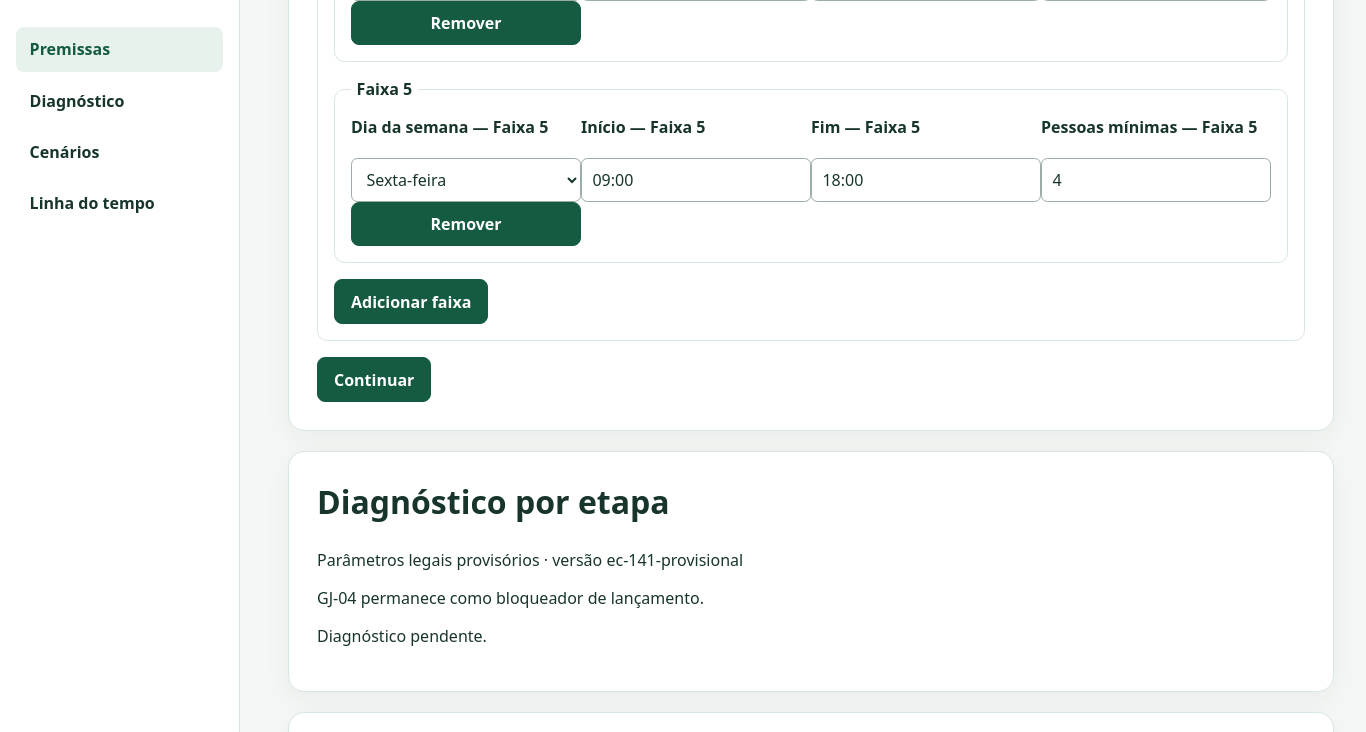
Test: diagnostic dashboard › clears diagnostic and scenario results when a diagnostic premise changes
(page scrolled)
Click the button "Continuar".
click(374, 380)  # box [317,357,431,402]
(page scrolled)
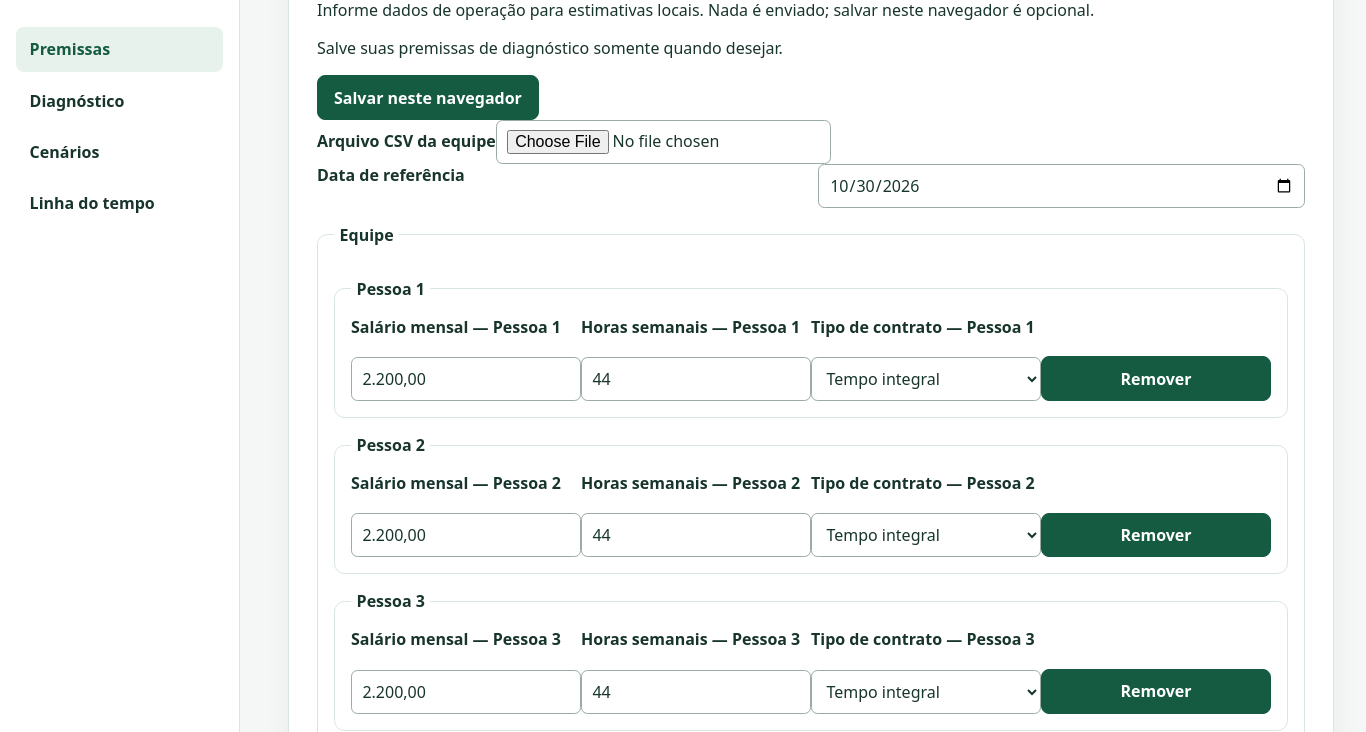
Replace the text in the field labelled "Horas semanais — Pessoa 1" with "40" at coordinates (696, 379), box [581,357,811,401]
(page scrolled)
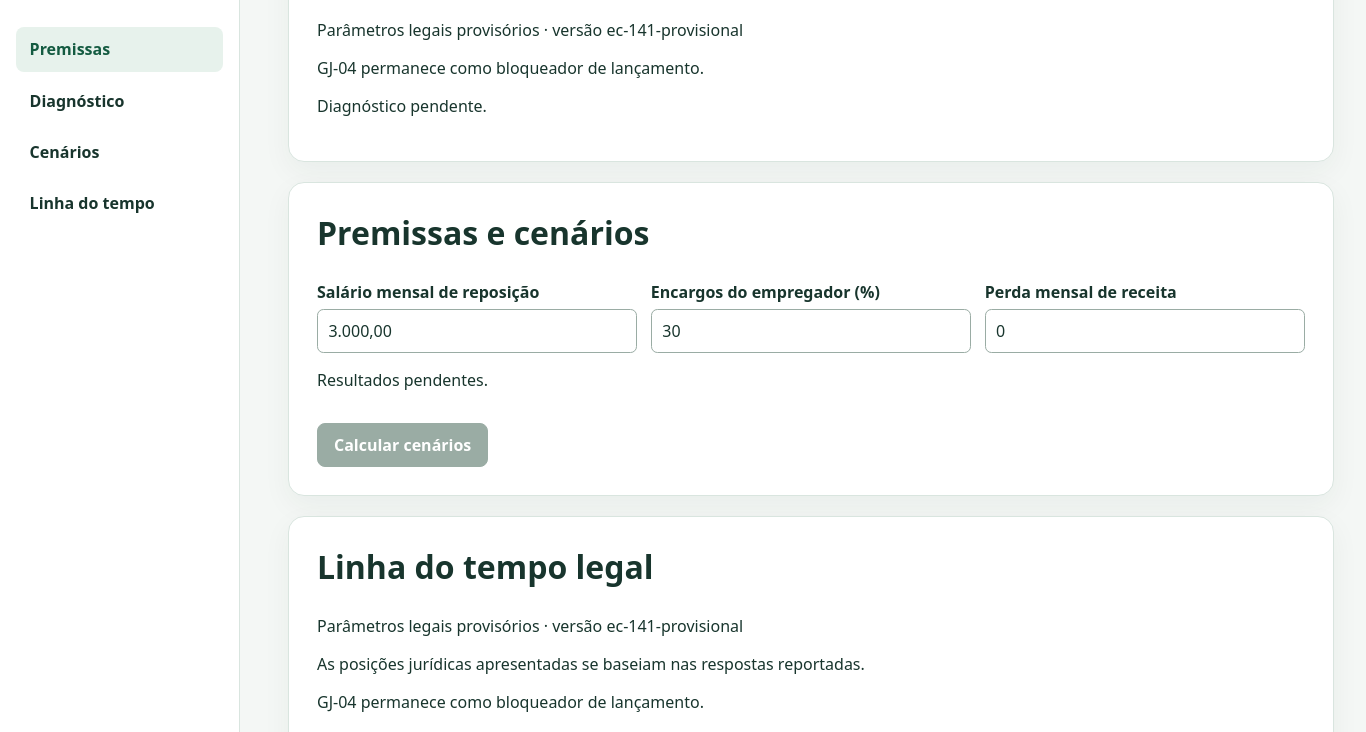
Check: the text "Resultados pendentes." is shown, box [317,369,488,391]
Check: the text "Diagnóstico pendente." is shown, box [317,95,487,117]
